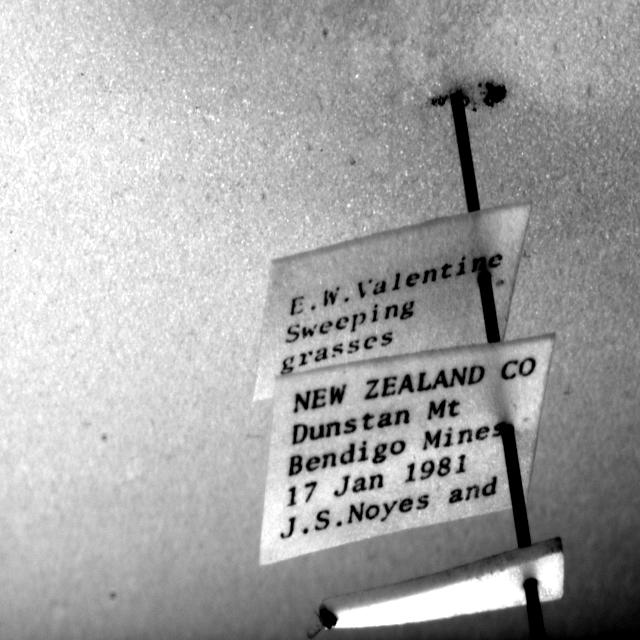typed_label: (260, 336, 554, 564), (254, 204, 531, 401)
